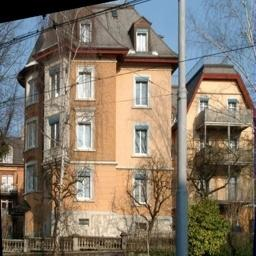building: (23, 0, 177, 242)
